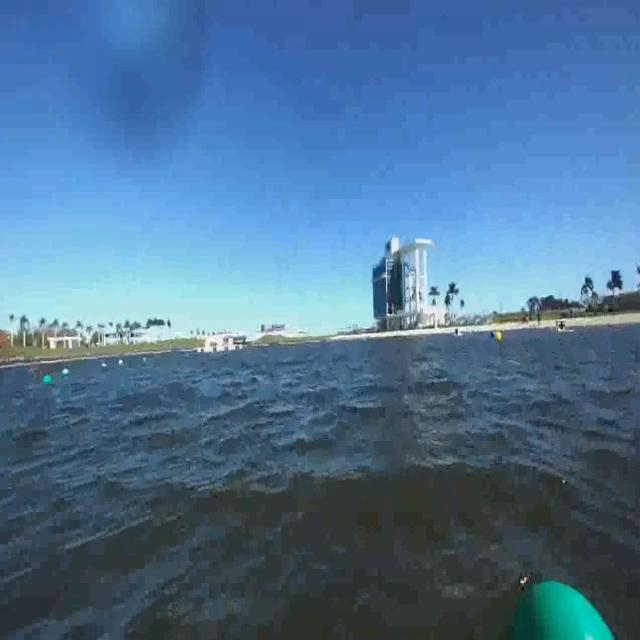green-buoy: (491, 564, 640, 640)
yellow-buoy: (496, 331, 502, 344)
